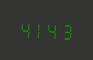four: (18, 19, 31, 39), (46, 20, 59, 40)
one: (32, 19, 45, 39)
three: (60, 20, 73, 40)
